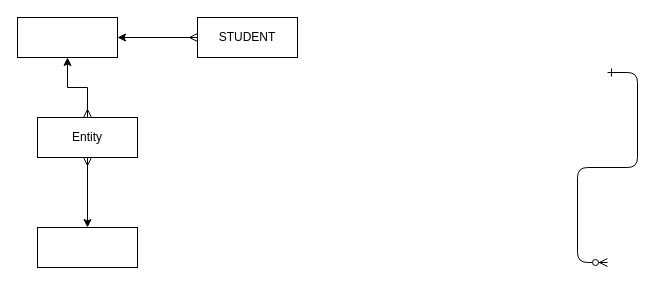
Image size: 664x289. Some labels were removed from this diagram. The shapes that lost their labels are listed below. From the top down, each one's centre as x and y in pixels, then its label:
point (67, 37): CLASSROOM
point (87, 247): INSTRUCTOR
